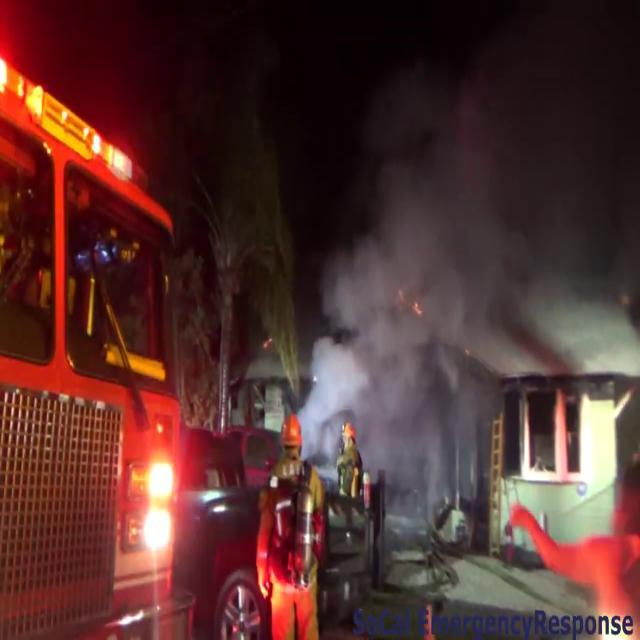Smoke: (378, 30, 640, 362), (296, 238, 516, 466)
